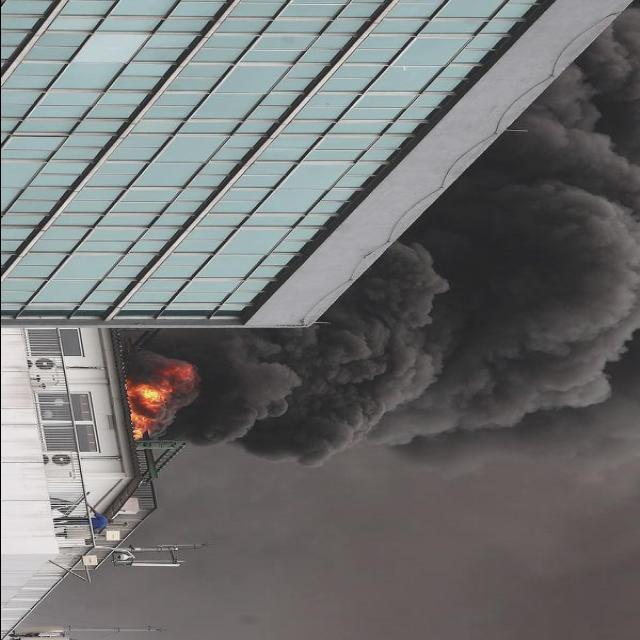Fire: (126, 368, 189, 443)
